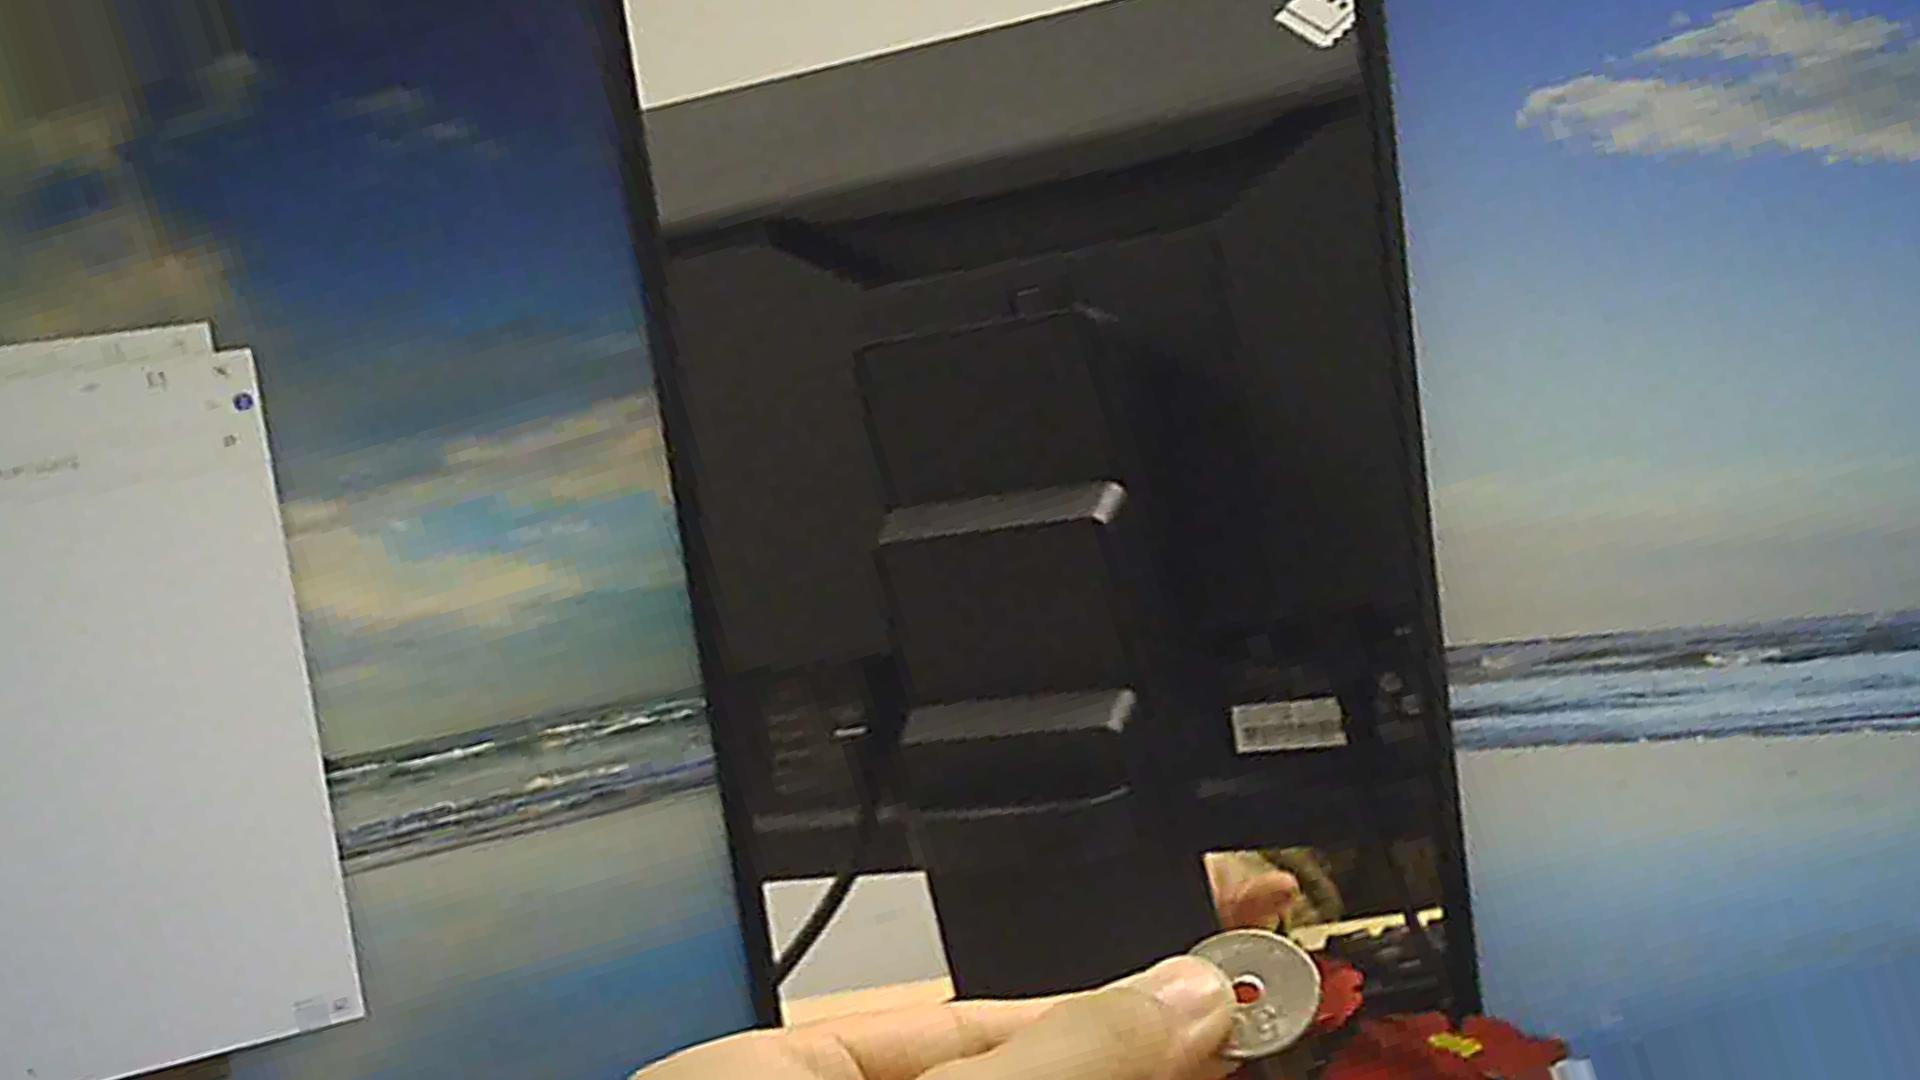50 Yen: (1174, 920, 1315, 1069)
